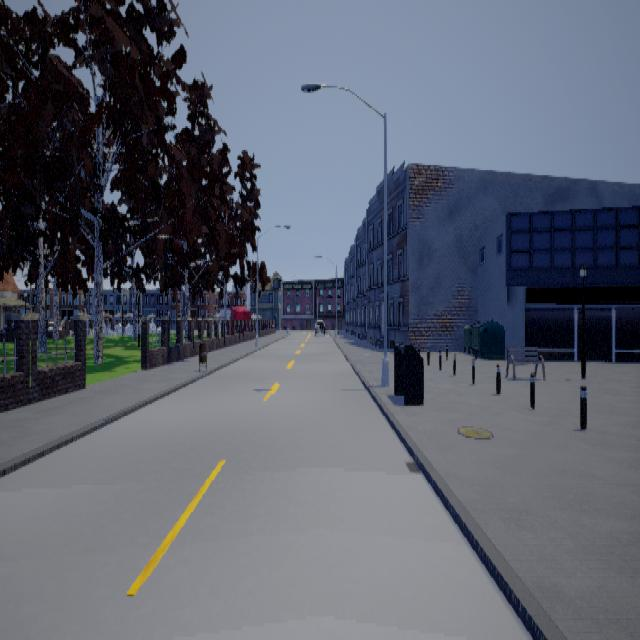vehicle: (312, 317, 325, 335)
